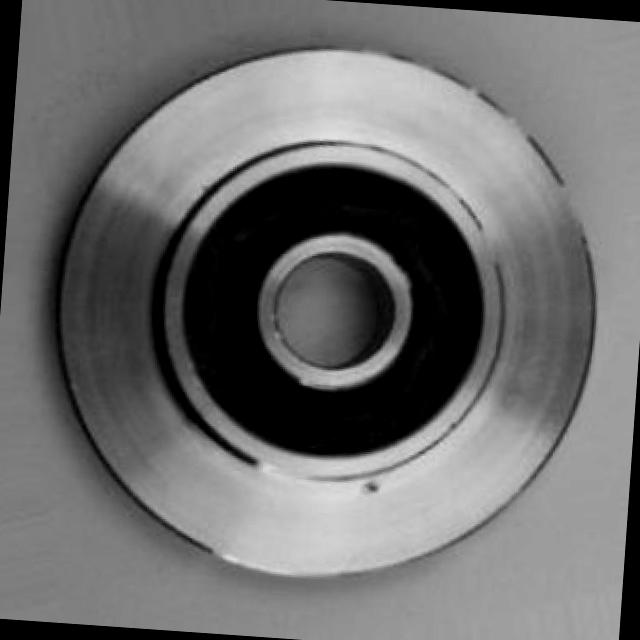Defect: (358, 476, 390, 502)
